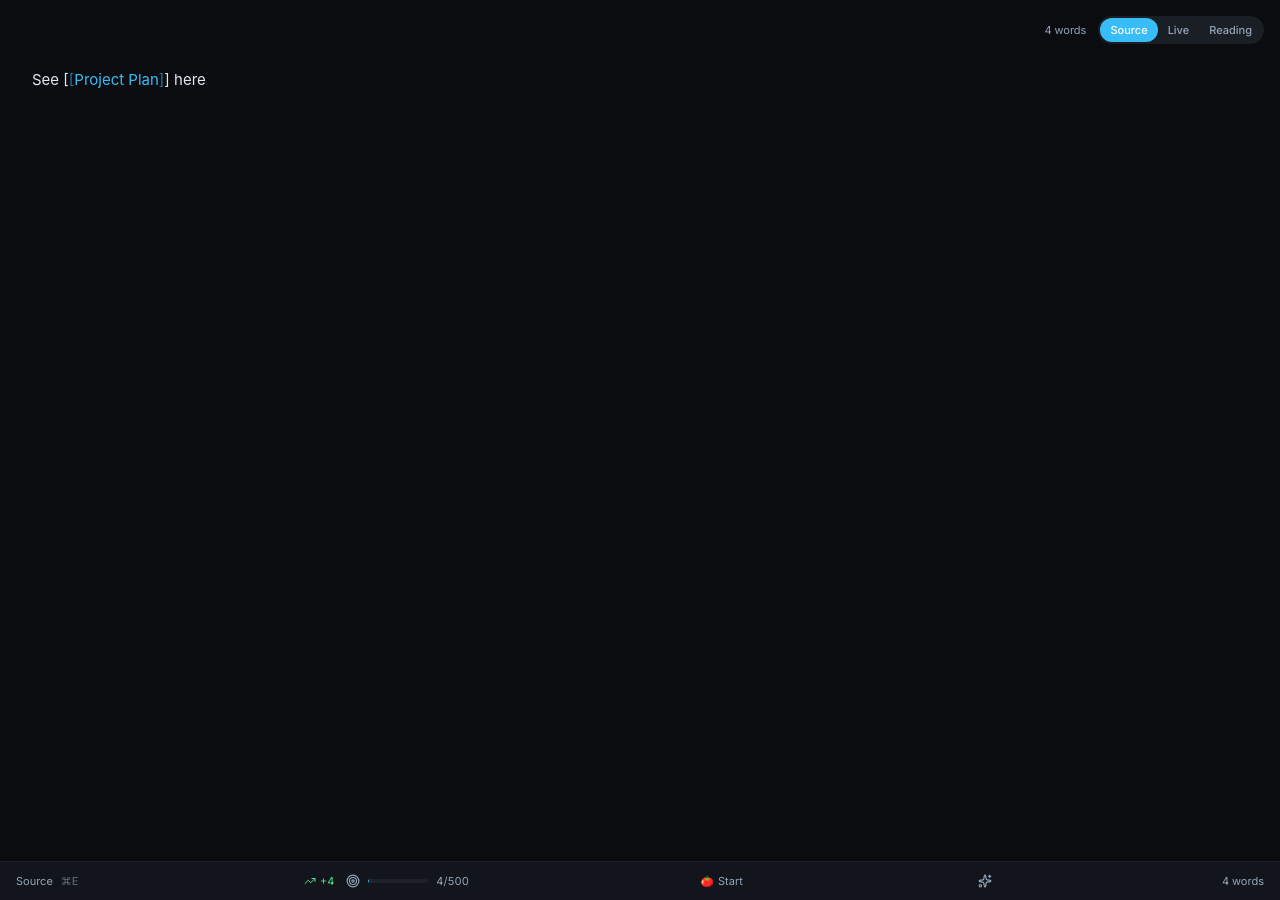
Editor + Autocomplete Integration › Wiki-Link Workflow › switches to reading mode to view wiki-links
Switch to reading mode (Obsidian-style modes)
Click the button "Reading". click: click(1231, 30)
box: x1=1199 y1=18 x2=1262 y2=42
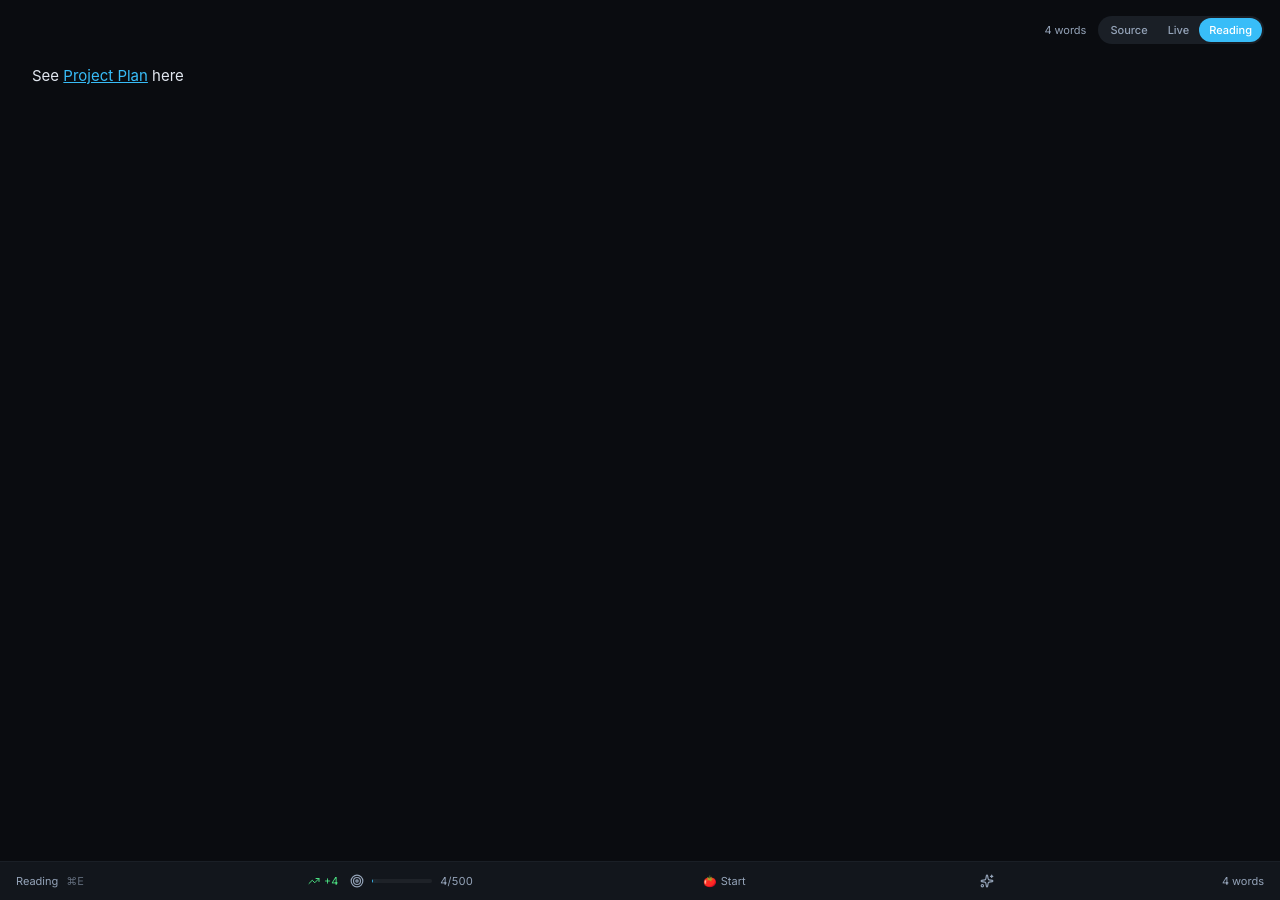
Check: the button "Source" is shown, box x1=1100 y1=18 x2=1158 y2=42
Check: the element showing "See Project Plan here" is shown, box x1=32 y1=66 x2=184 y2=85
